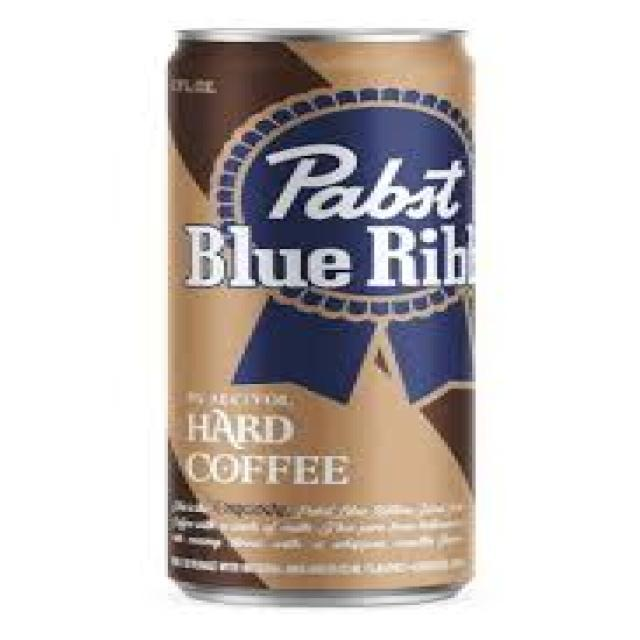Cans: (143, 7, 500, 612)
